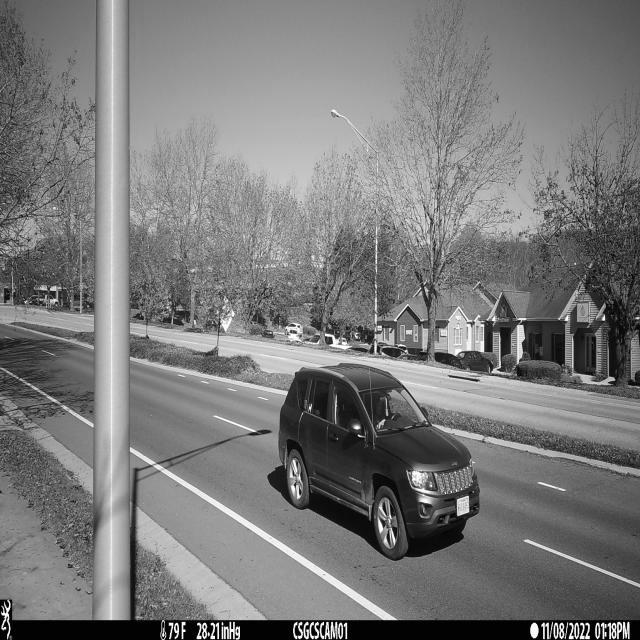SUV: (278, 364, 480, 562)
